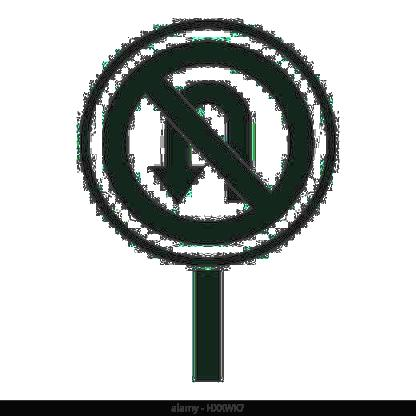No U-turn: (77, 14, 342, 270)
